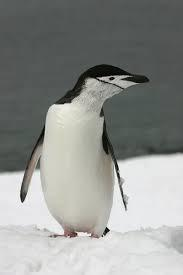chinstrap: (11, 57, 158, 255)
